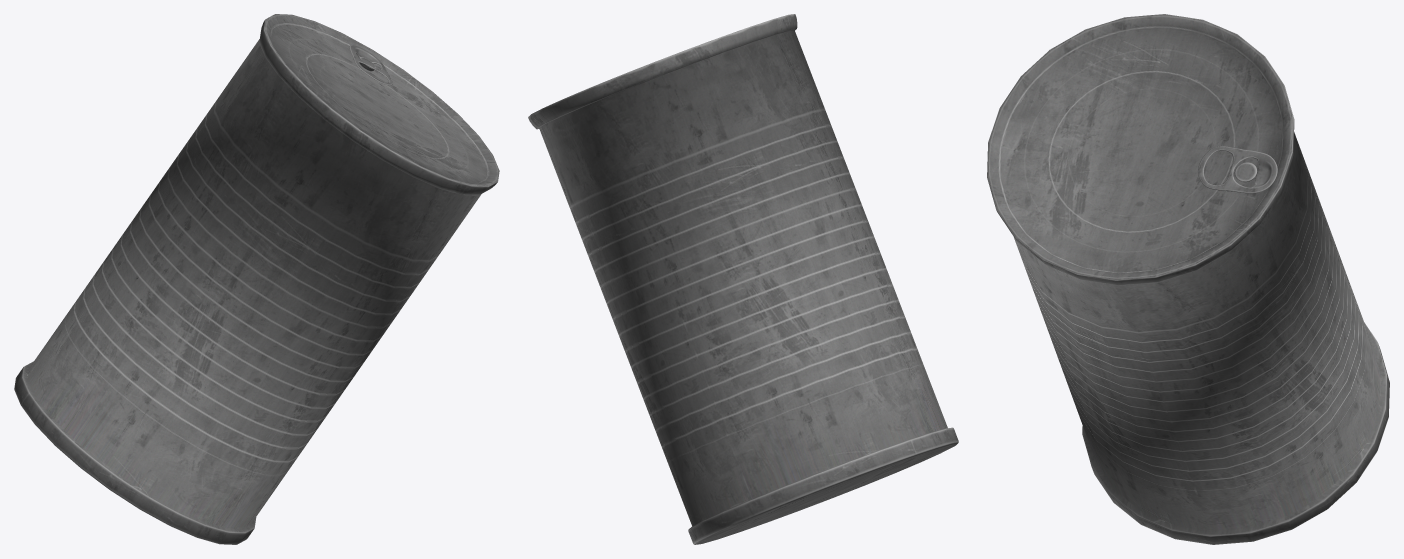
File: can.glb
The picture shows the model from 3 angles, left to right: view 1: azimuth 30°, elevation 25°; view 2: azimuth 150°, elevation 25°; view 3: azimuth 270°, elevation 25°; orthographic projection. The views are drawn at different scales.
Parts seen in each view (by area): view 1: Can_low, Lacre_low; view 2: Can_low; view 3: Can_low, Lacre_low.
Part boxes in pixels (x1,y1,x2,y2): Can_low: (14,14,499,544); Lacre_low: (349,45,392,85); Can_low: (528,14,958,544); Can_low: (987,14,1389,544); Lacre_low: (1197,146,1277,193).
Size of the model in its own units: 3.97 by 4.42 by 3.02.
1 material, 1 textured.
